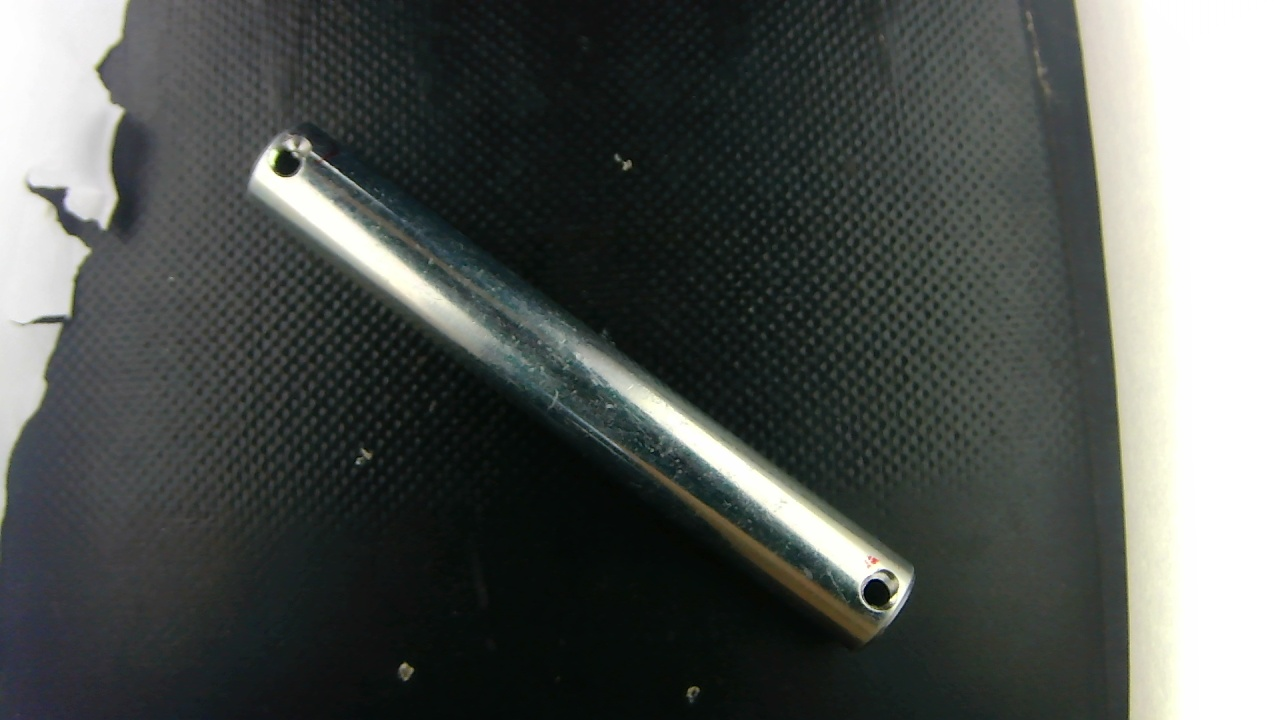drill touch_pin: (274, 120, 321, 168), (862, 573, 901, 609)
